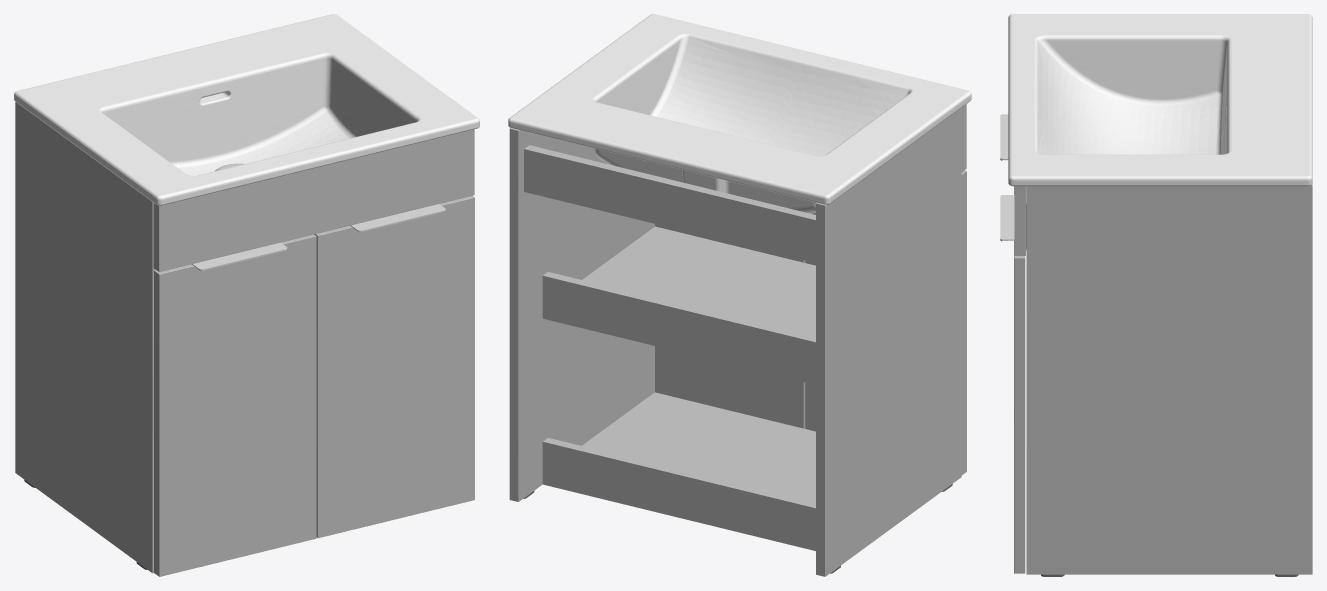
The model's file is AEC_43437.glb.
3 views of the same model, side by side, from view 1: azimuth 30°, elevation 25°; view 2: azimuth 150°, elevation 25°; view 3: azimuth 270°, elevation 25° (orthographic). The views are drawn at different scales.
Parts seen in each view (by area): view 1: 0; view 2: 0; view 3: 0.
Boxes of the visible parts, <box> form: 0: <box>14,14,479,576</box>; 0: <box>508,14,971,576</box>; 0: <box>1000,14,1312,576</box>.
Bounding box in the file's own units: 0.55 × 0.626 × 0.4414.
1 material, 1 textured.
